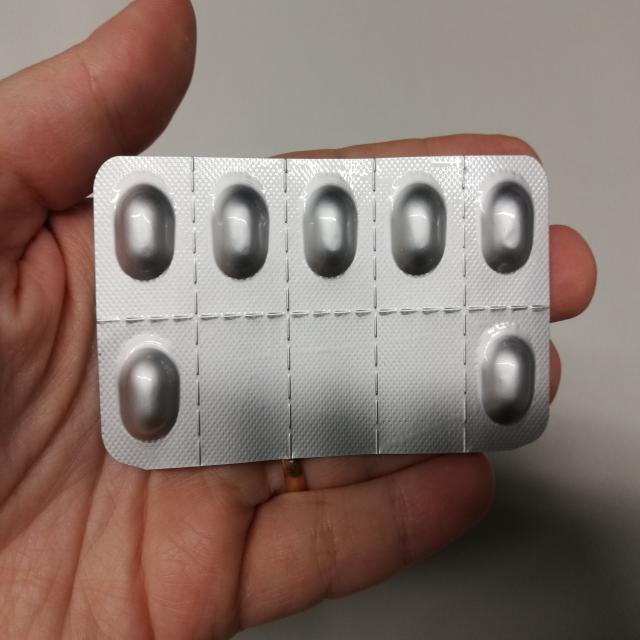Pill: (108, 175, 180, 290), (205, 176, 273, 288), (112, 343, 182, 450), (384, 176, 452, 280), (296, 177, 360, 284), (475, 173, 537, 278), (476, 320, 535, 430)
